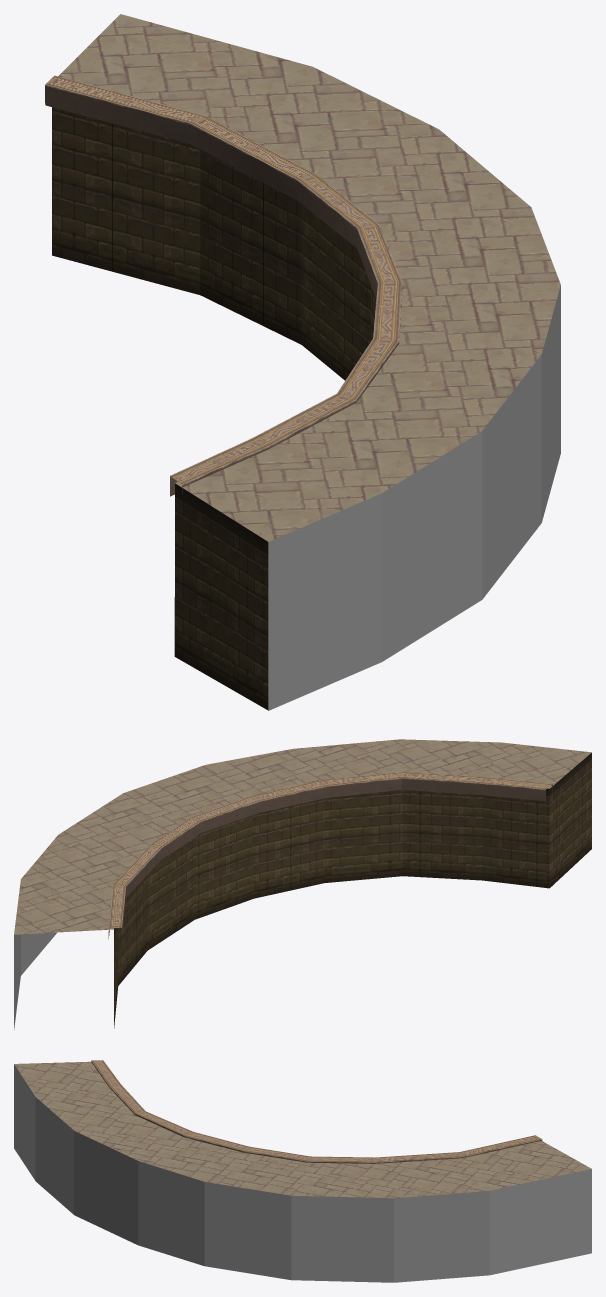
The model's file is fb_jjc_dm_04.FBX.
The picture shows the model from 3 angles, top to bottom: view 1: azimuth 30°, elevation 25°; view 2: azimuth 150°, elevation 25°; view 3: azimuth 270°, elevation 25°; orthographic projection. The views are drawn at different scales.
Visible parts, largest first — view 1: fb_jjc_dimian_04_c, fb_jjc_dimian_04_b, fb_jjc_dimian_04_a; view 2: fb_jjc_dimian_04_c, fb_jjc_dimian_04_b, fb_jjc_dimian_04_a; view 3: fb_jjc_dimian_04_c, fb_jjc_dimian_04_b, fb_jjc_dimian_04_a.
Boxes of the visible parts, left/top/right/bottom form: fb_jjc_dimian_04_c: left=52, top=107, right=560, bottom=710; fb_jjc_dimian_04_b: left=58, top=14, right=560, bottom=541; fb_jjc_dimian_04_a: left=45, top=75, right=402, bottom=496; fb_jjc_dimian_04_c: left=14, top=752, right=591, bottom=1029; fb_jjc_dimian_04_b: left=14, top=739, right=591, bottom=934; fb_jjc_dimian_04_a: left=108, top=772, right=552, bottom=938; fb_jjc_dimian_04_c: left=14, top=1064, right=591, bottom=1282; fb_jjc_dimian_04_b: left=14, top=1061, right=591, bottom=1198; fb_jjc_dimian_04_a: left=91, top=1060, right=542, bottom=1163.
Size of the model in its own units: 5991 by 1804 by 10694.
